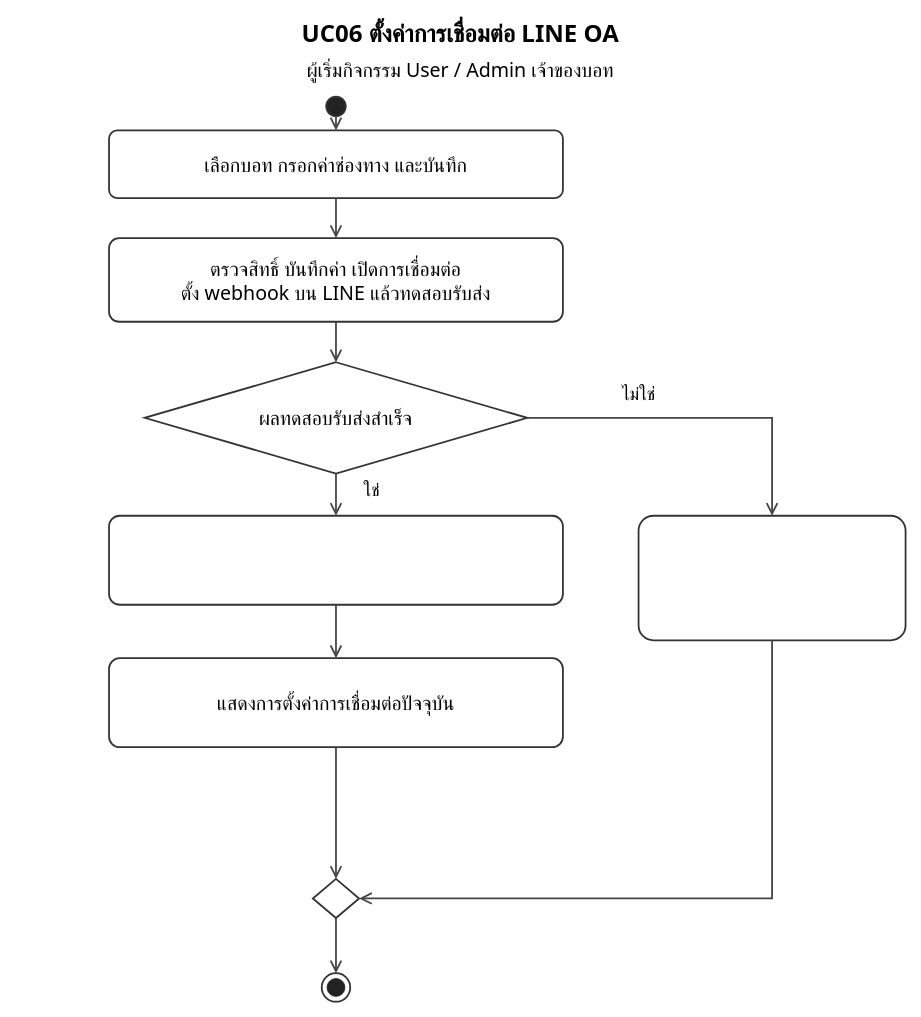
The diagram is 921 pixels wide and 1017 high, and some of its shapes have lost their labels. The shapes that lost their labels are listed below. From the top down, each one's centre as x and y in pixels, then its label:
At pixel 335 559: "ผู้ดูแลตรวจผลข้อความทดสอบ".
At pixel 771 577: "แจ้งให้ตรวจค่าช่องทาง เครือข่าย หรือ webhook ก่อนลองใหม่".
